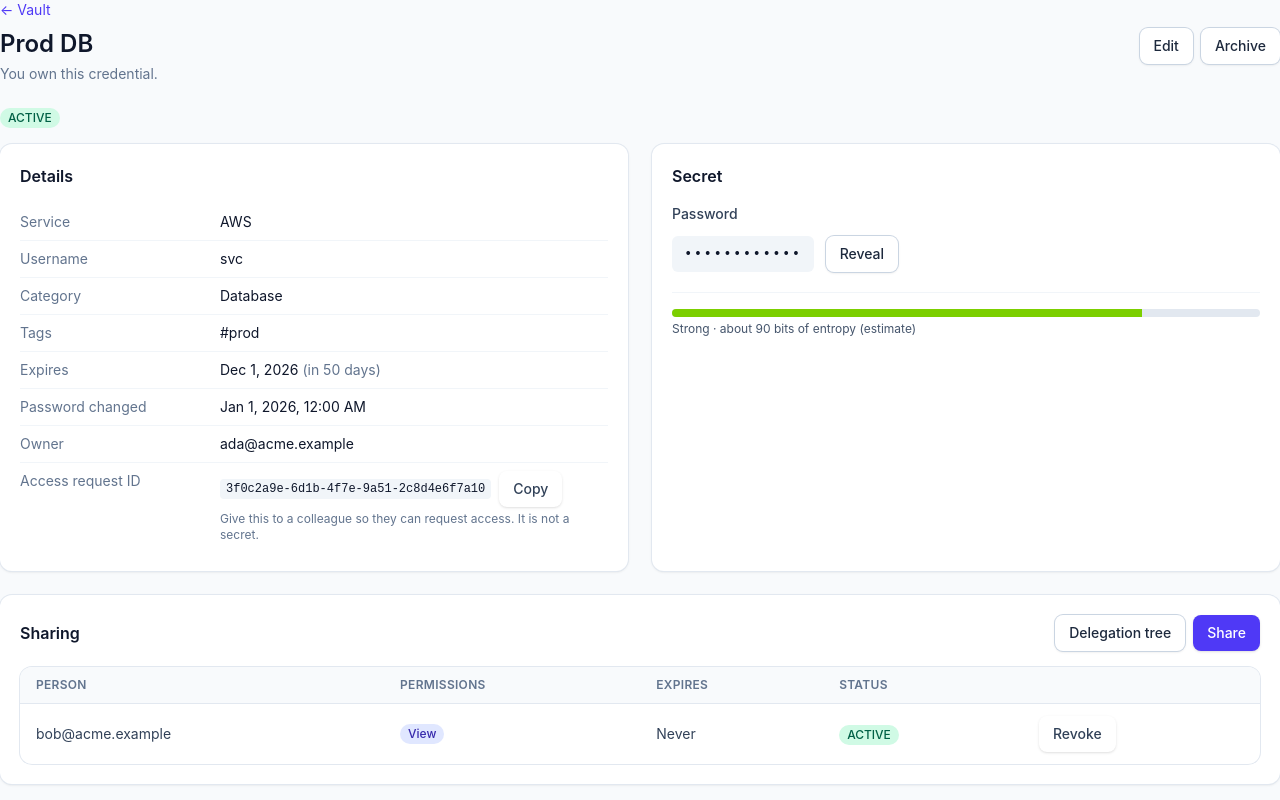
revoking asks for confirmation, warns about cascading, and reports how many people lost access
Click the button with aria-label "revoke access for bob@acme.example". click: point(1077, 734)
box: [1039,716,1116,752]
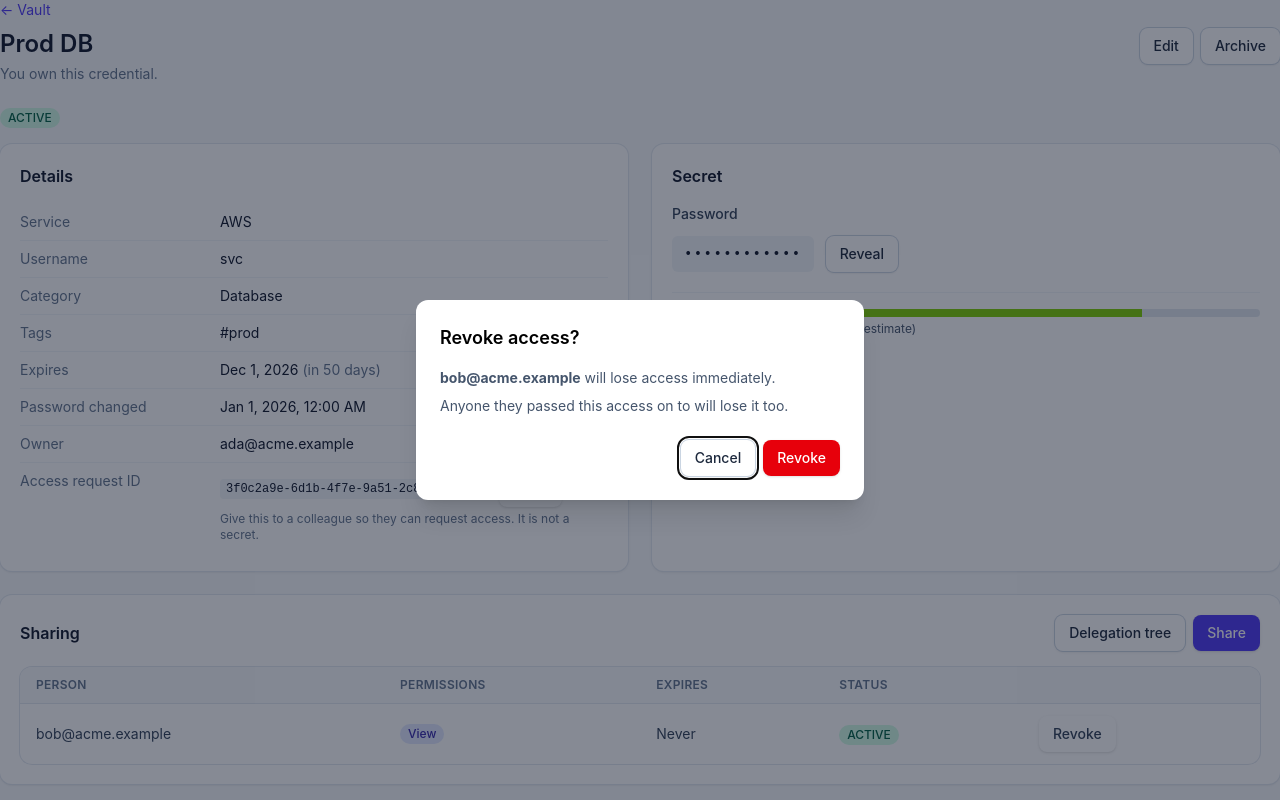
Check: the text "Anyone they passed this access on to will lose it too." is shown, box [440,396,840,416]
Click the button "Revoke". click: point(802, 458)
box: [763,440,840,476]
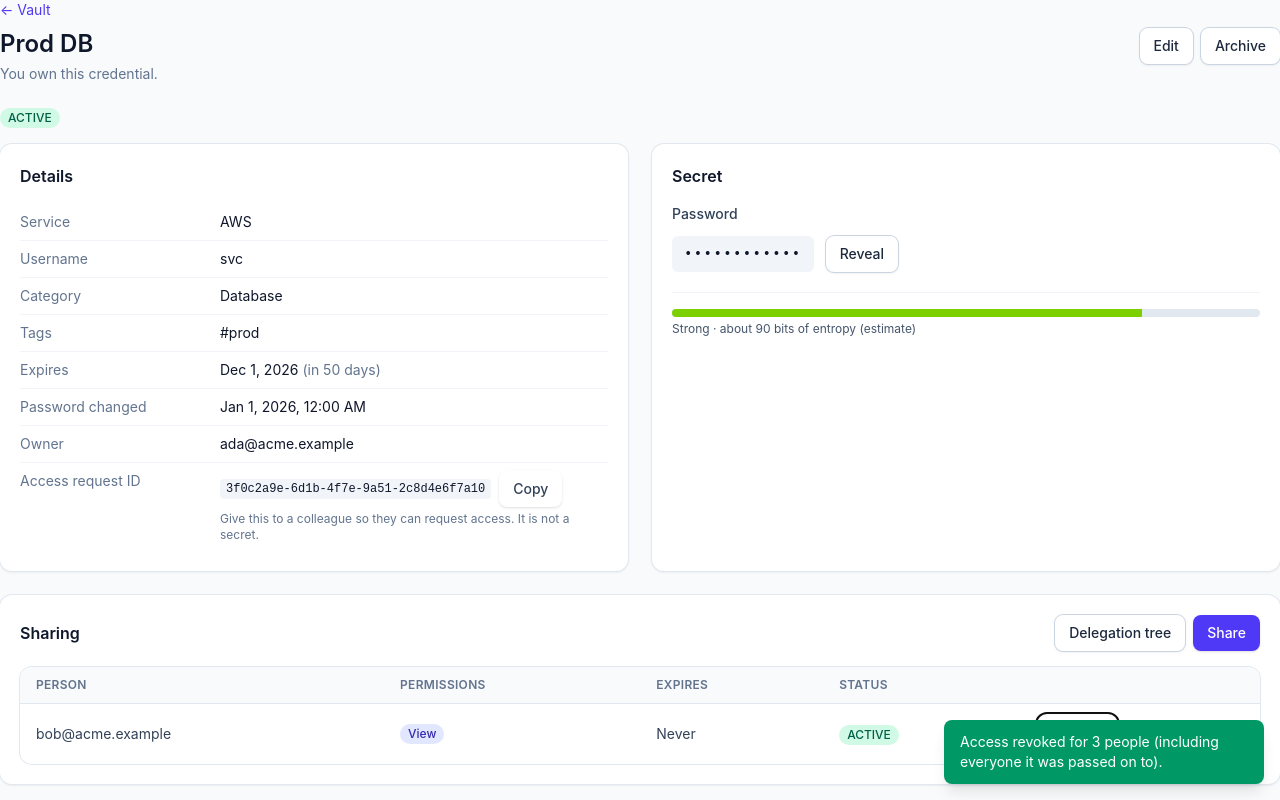
Check: the text "Access revoked for 3 people (including everyone it was passed on to)." is shown, box [944,720,1264,784]
